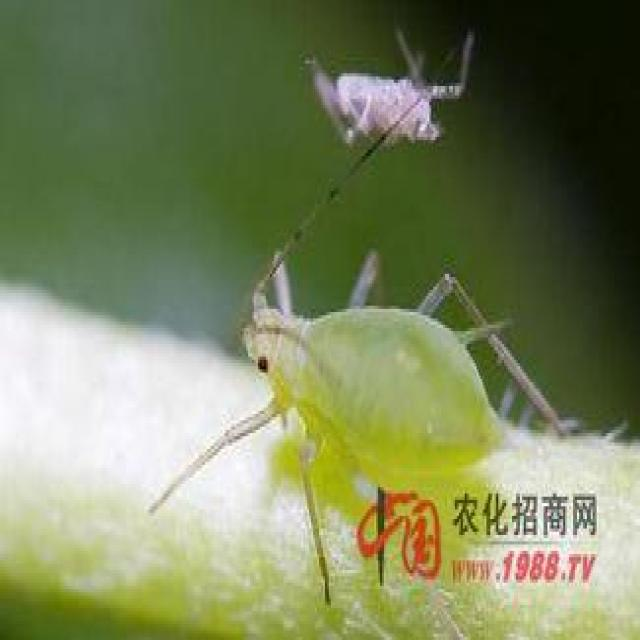Aphids: (143, 180, 580, 492)
